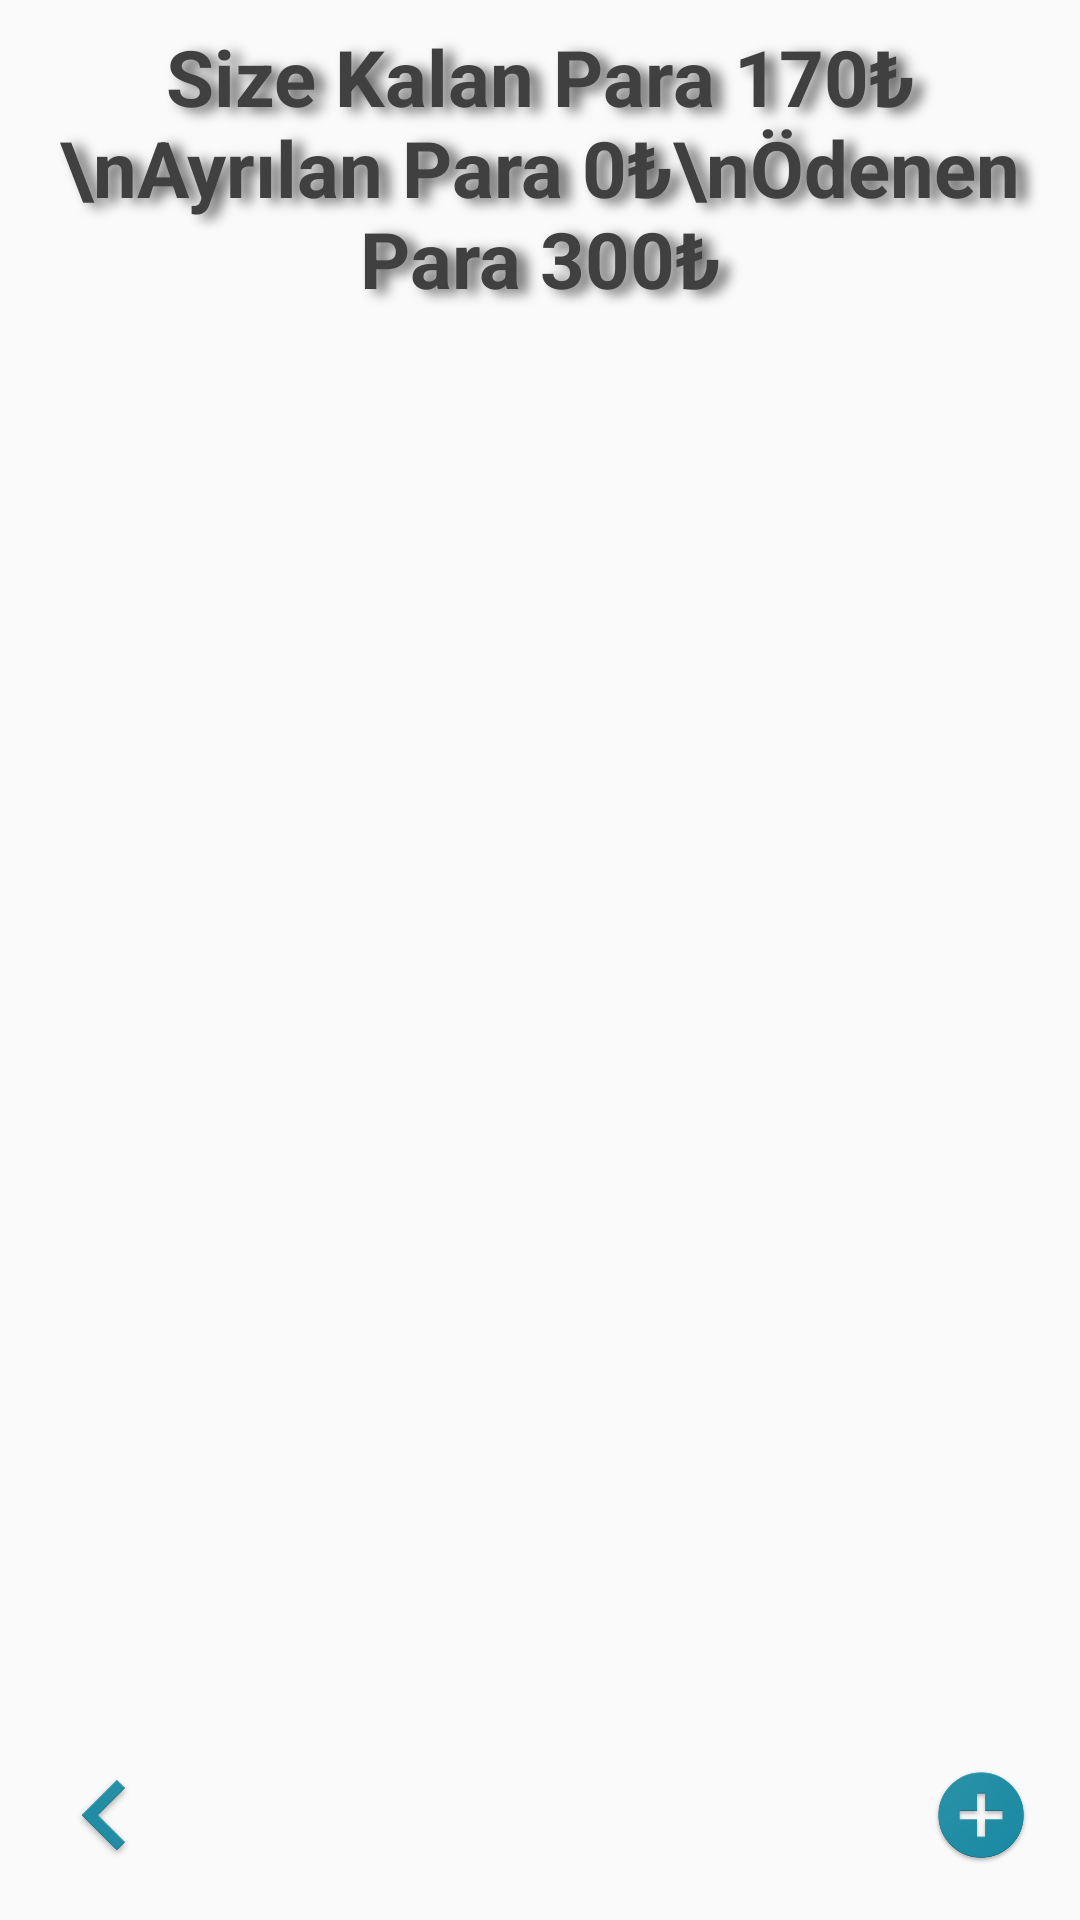

Icon click points for this 1080 × 1920 phone screenshot, format (x,y):
ekle: (981,1816)
previous: (103,1816)
